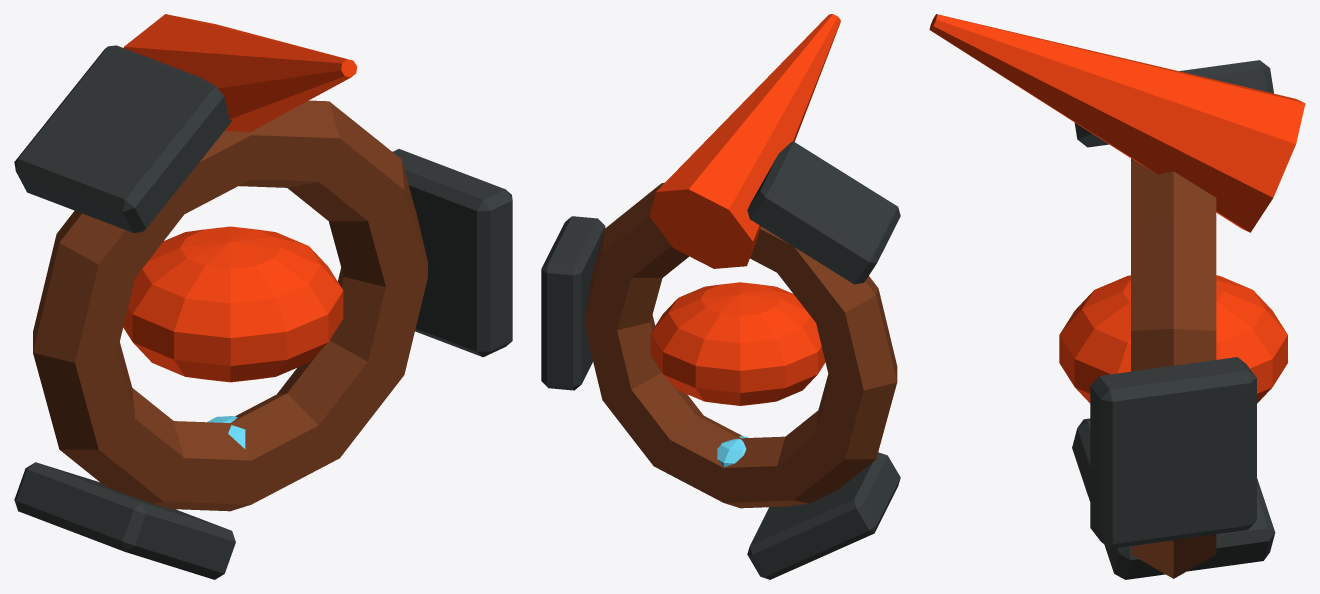
Rendered from Cindercoil.glb.
3 renders of one model, left to right at view 1: azimuth 30°, elevation 25°; view 2: azimuth 150°, elevation 25°; view 3: azimuth 270°, elevation 25°, orthographic. The views are drawn at different scales.
Visible parts, largest first — view 1: Body, Core, ArcFin2, ArcFin1, Tail, ArcFin3; view 2: Body, Tail, Core, ArcFin2, ArcFin3, ArcFin1, Sensor; view 3: Tail, ArcFin1, Body, Core, ArcFin3, ArcFin2.
Part boxes in pixels (<box>): Body: <box>33,100,427,511</box>; Core: <box>123,226,343,382</box>; ArcFin2: <box>14,45,232,232</box>; ArcFin1: <box>392,149,512,357</box>; Tail: <box>123,14,357,132</box>; ArcFin3: <box>14,462,235,579</box>; Body: <box>584,182,897,508</box>; Tail: <box>649,14,840,268</box>; Core: <box>650,282,825,405</box>; ArcFin2: <box>747,141,900,284</box>; ArcFin3: <box>747,452,900,579</box>; ArcFin1: <box>541,216,605,390</box>; Sensor: <box>717,436,748,467</box>; Tail: <box>929,14,1305,232</box>; ArcFin1: <box>1090,357,1256,548</box>; Body: <box>1131,158,1216,578</box>; Core: <box>1059,275,1287,403</box>; ArcFin3: <box>1072,418,1275,579</box>; ArcFin2: <box>1074,60,1273,147</box>.
Bounding box in the file's own units: 4.48 × 5.5 × 3.21.
Materials: 1 (1 with a texture image).
